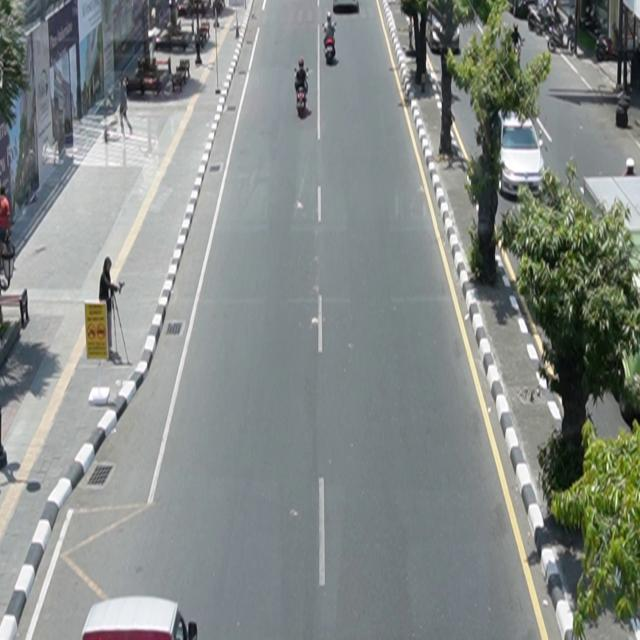car: (82, 596, 198, 640), (498, 107, 546, 200)
